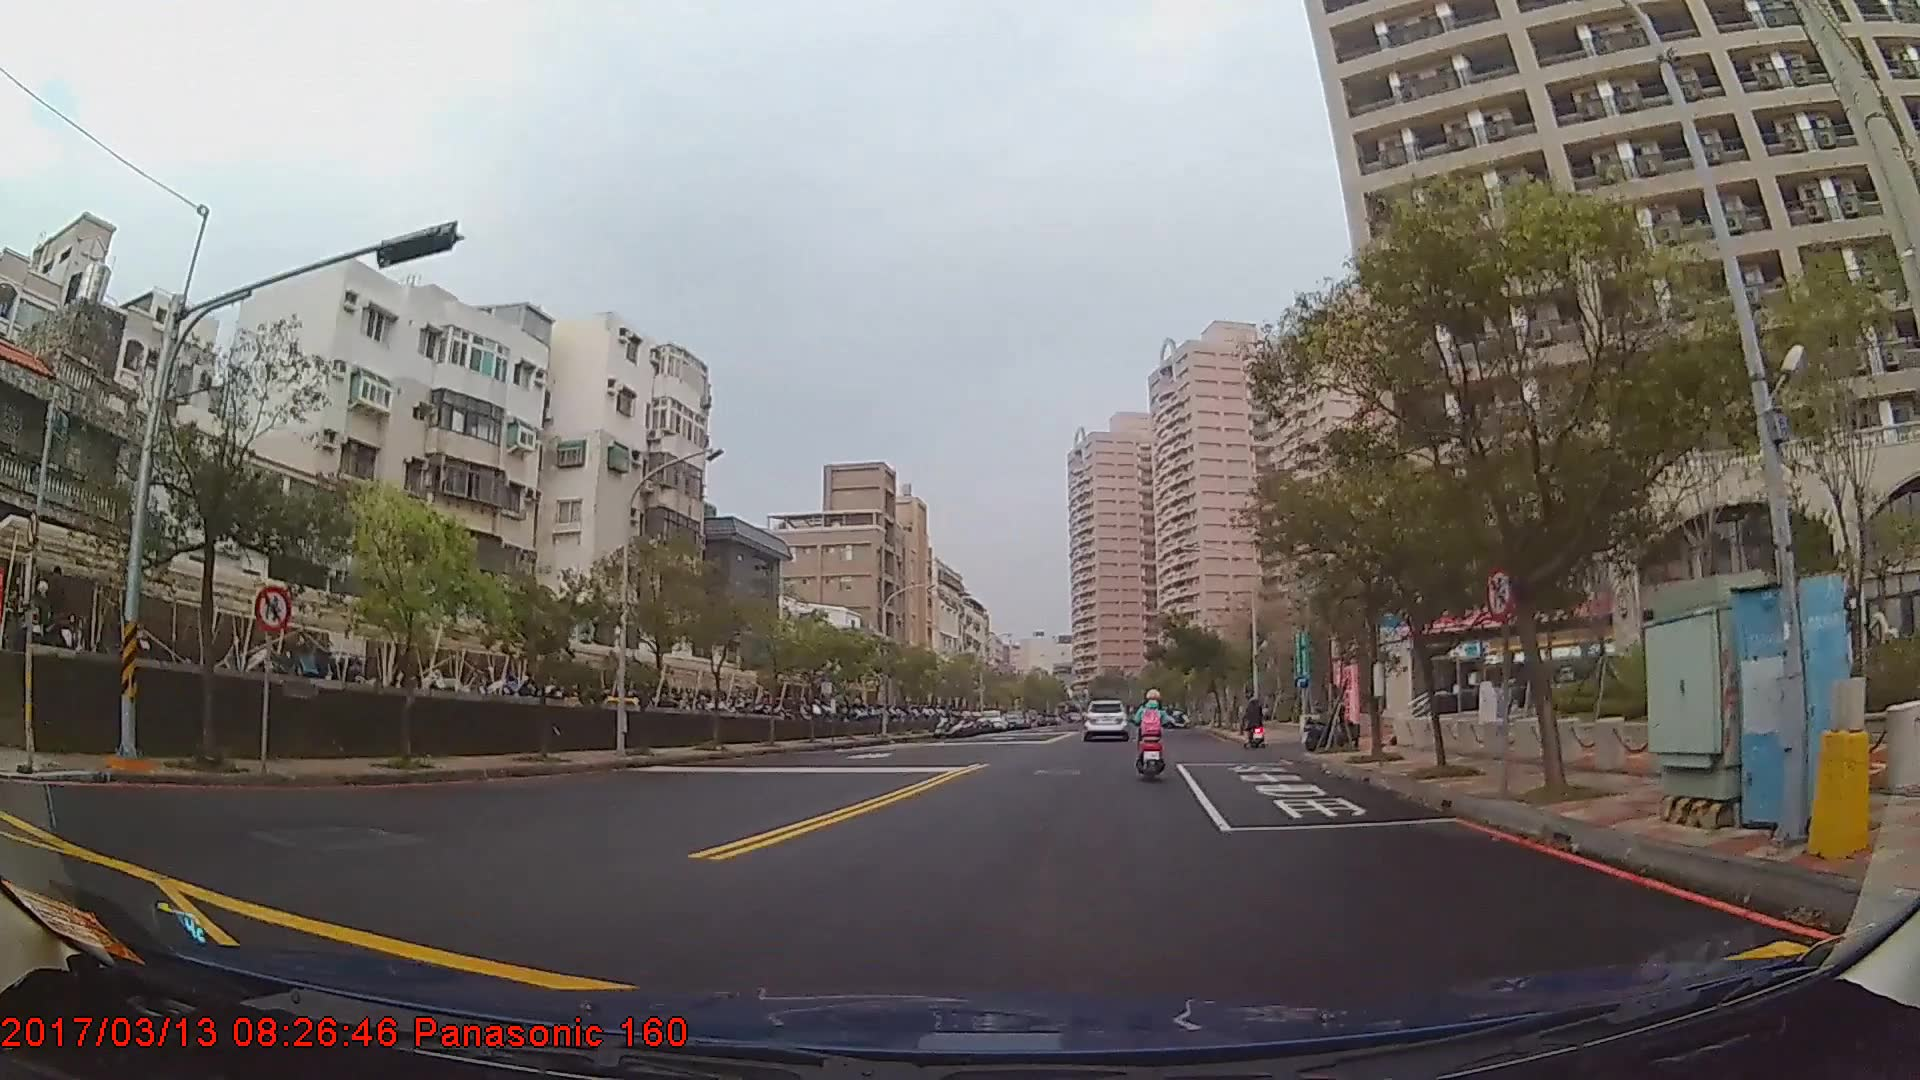rider: (1130, 691, 1179, 776), (1244, 696, 1266, 747)
vehicle: (1079, 697, 1127, 739)
